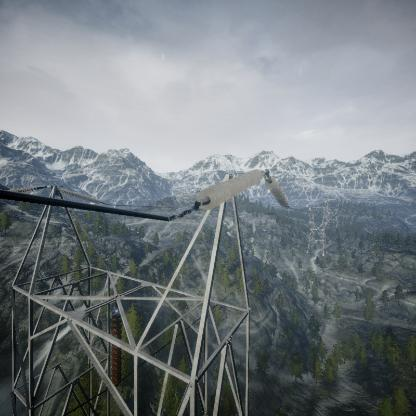insulator: (190, 167, 267, 210), (110, 312, 124, 394), (266, 171, 291, 212), (60, 187, 105, 203)
